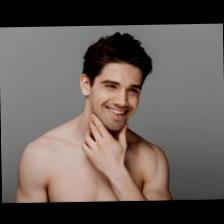Normal: (94, 66, 140, 126)
